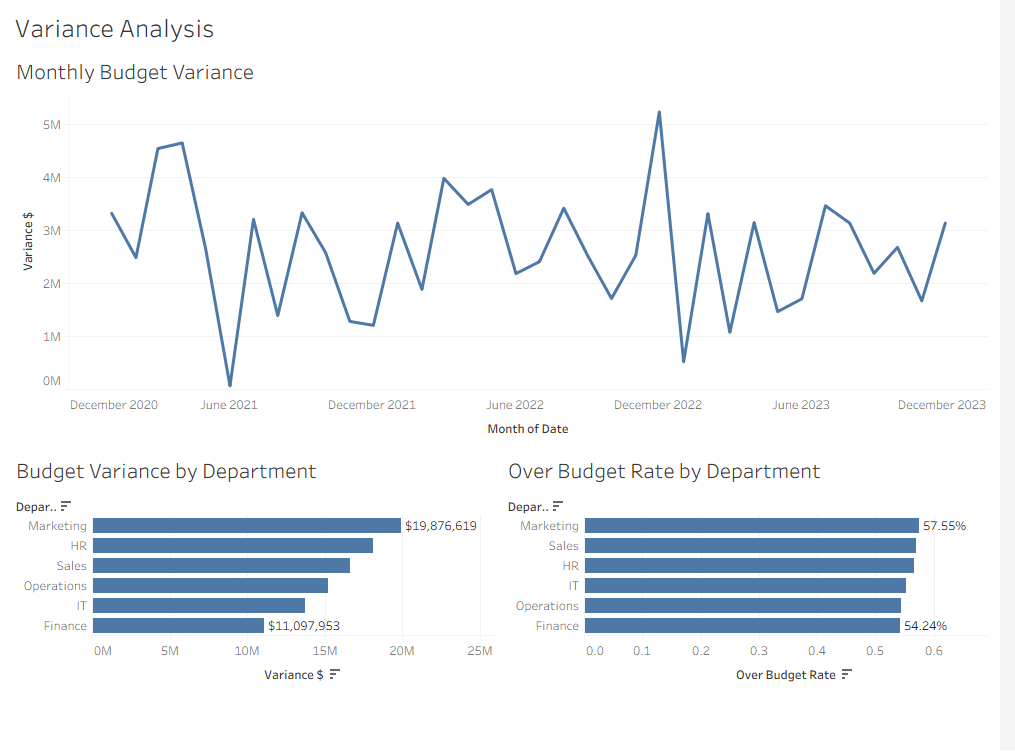

The page's visual inventory and layout, read from the dashboard file:
{"tool":"tableau","page":{"name":"Variance Analysis","canvas":[1000,800],"ordinal":1},"visuals":[{"type":"title","box":[8,8,984,42]},{"type":"worksheet","title":"Monthly Budget Variance","mark":"Automatic","rows":["Calculation_4810970325493309440"],"cols":["Date"],"box":[8,50,984,399.4]},{"type":"worksheet","title":"Budget Variance by Department","mark":"Automatic","rows":["Department"],"cols":["Calculation_4810970325493309440"],"box":[8,449.4,492,342.6]},{"type":"worksheet","title":"Over Budget Rate by Department","mark":"Automatic","rows":["Department"],"cols":["Calculation_4810970325493649411"],"box":[500,449.4,492,246]}]}

Visuals, with their boxes on the page's 1000x800 design canvas (x1, y1, x2, y2). These are canvas units, not pixel positions in the 1015x751 screenshot, which may show the page scaled, cropped or inside an application window:
title: box(8, 8, 992, 50)
"Monthly Budget Variance" worksheet: box(8, 50, 992, 449)
"Budget Variance by Department" worksheet: box(8, 449, 500, 792)
"Over Budget Rate by Department" worksheet: box(500, 449, 992, 695)
